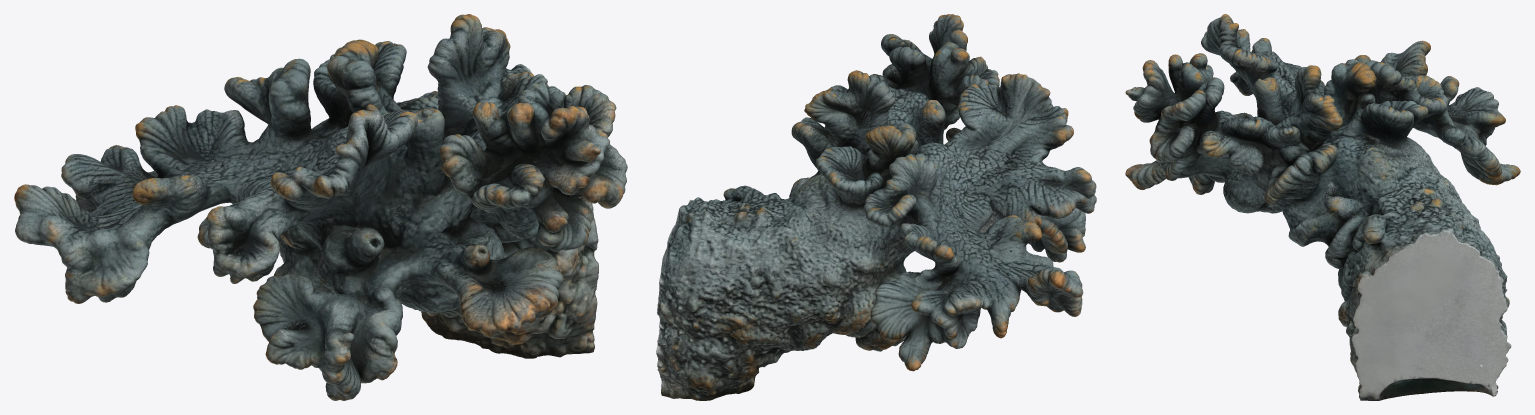
File: ukwial-opt.glb
The picture shows the model from 3 angles, left to right: view 1: azimuth 30°, elevation 25°; view 2: azimuth 150°, elevation 25°; view 3: azimuth 270°, elevation 25°; orthographic projection. The views are drawn at different scales.
Bounding box in the file's own units: 1.9 × 1.33 × 1.71.
1 material, 1 textured.
